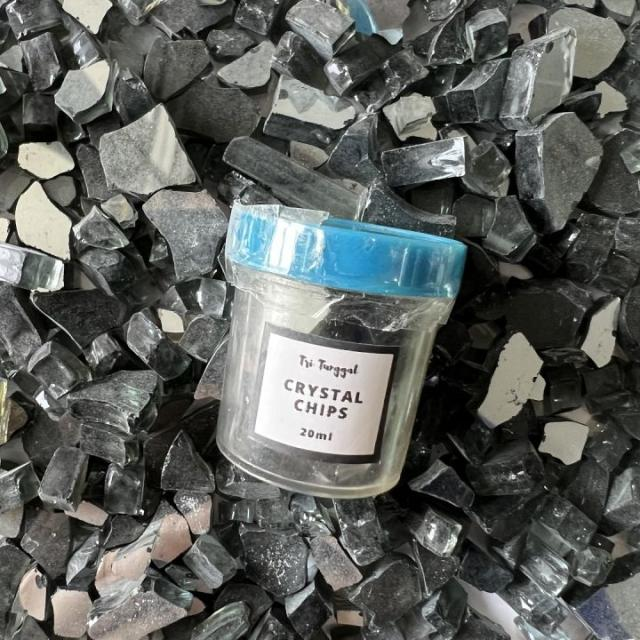Pecahan Agregat: (136, 185, 237, 305), (492, 16, 605, 117), (216, 128, 350, 210), (95, 114, 205, 200), (509, 112, 592, 225), (163, 66, 269, 152), (227, 516, 316, 592), (29, 284, 129, 350), (552, 542, 622, 631), (490, 330, 548, 434), (378, 132, 471, 192), (266, 80, 354, 143), (132, 32, 215, 98), (50, 54, 124, 128), (28, 338, 108, 406), (512, 536, 586, 608), (79, 585, 187, 634), (4, 5, 66, 90), (482, 184, 546, 266), (175, 522, 238, 604), (12, 137, 94, 194), (38, 433, 84, 533), (153, 432, 214, 506), (406, 578, 483, 631), (126, 311, 186, 378), (583, 294, 632, 376), (102, 458, 148, 545), (415, 457, 486, 512), (6, 237, 66, 295), (311, 532, 365, 594), (534, 415, 602, 463), (368, 555, 427, 609), (386, 82, 443, 136), (73, 212, 127, 262), (14, 565, 54, 630)
